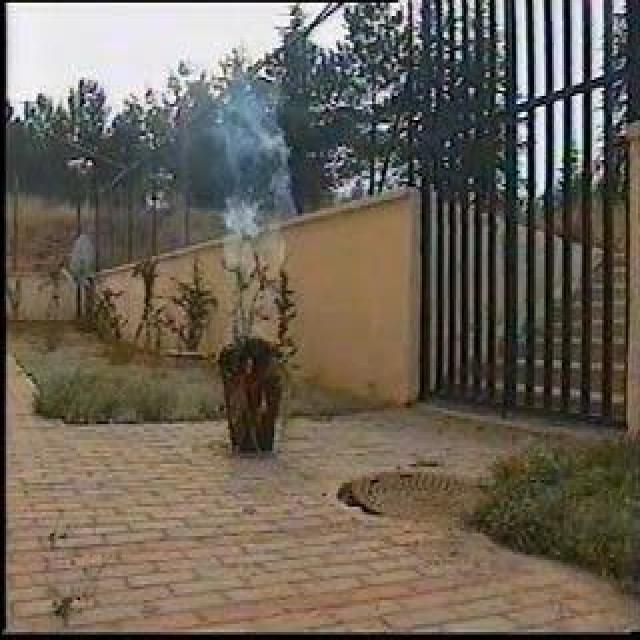smoke: (220, 90, 288, 274)
